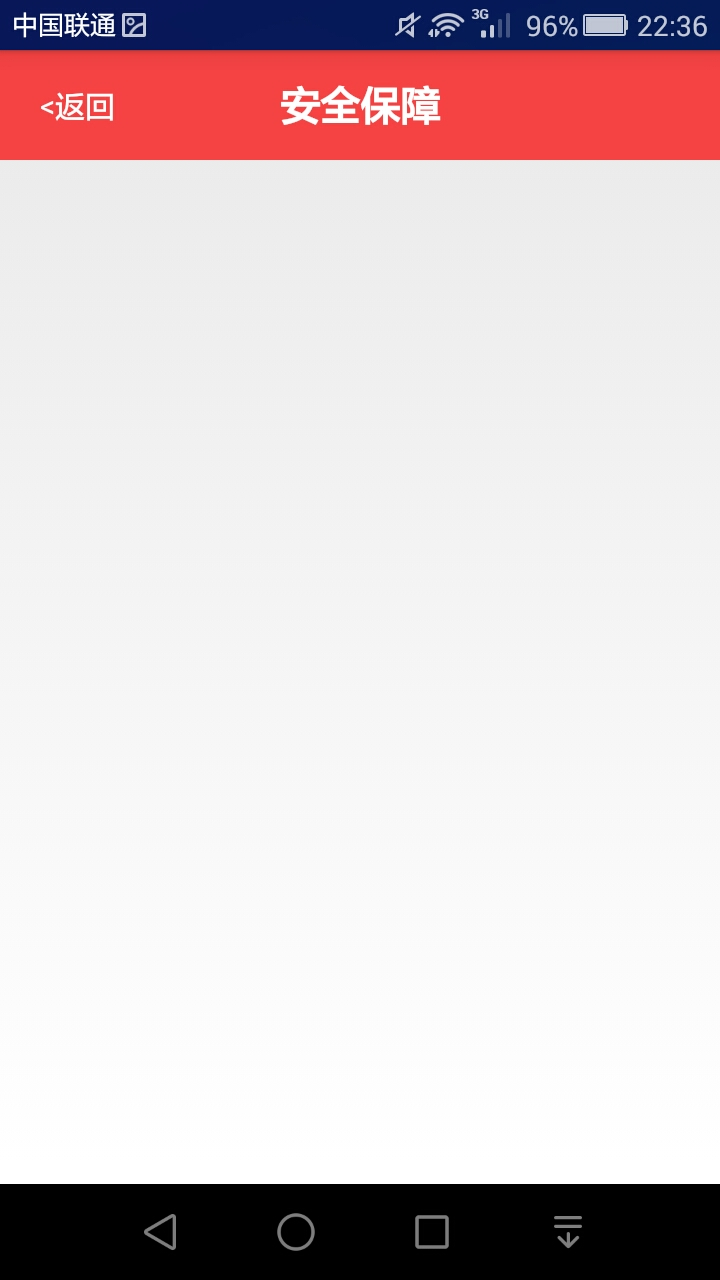button: (10, 68, 131, 137)
textview: (267, 76, 454, 144)
